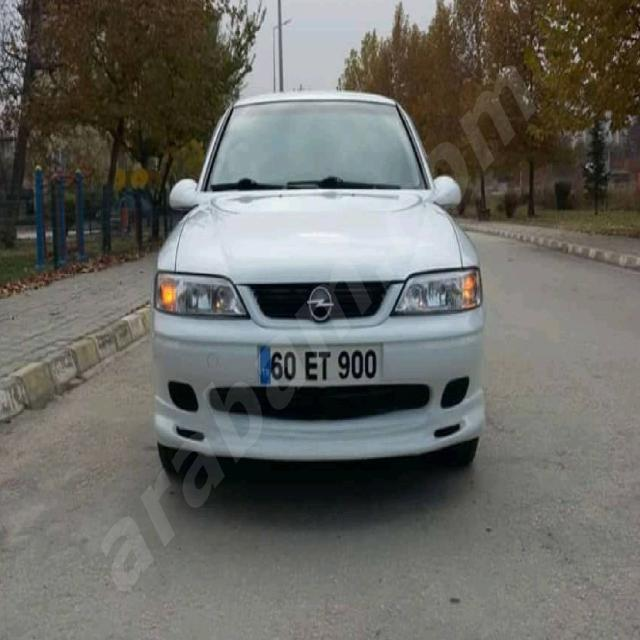license_plate: (258, 344, 381, 384)
